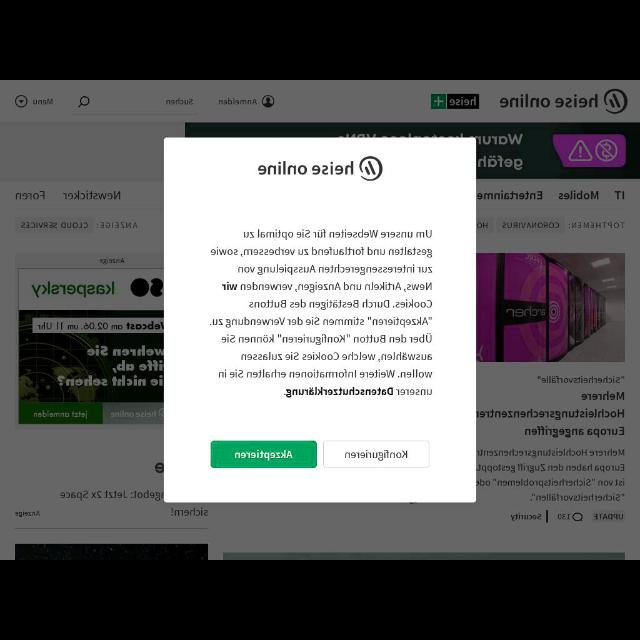button: (430, 95, 446, 108)
icon: (261, 95, 275, 109), (78, 94, 89, 110), (16, 95, 28, 107), (433, 95, 442, 107)
iframe: (186, 124, 638, 178), (19, 269, 162, 425)
image: (476, 253, 624, 361), (358, 155, 384, 181), (603, 89, 629, 115)
spinner: (74, 96, 198, 114), (13, 94, 53, 108)
text: (207, 228, 433, 398), (475, 450, 625, 502), (477, 391, 625, 441), (260, 160, 354, 180), (501, 94, 599, 112), (58, 491, 162, 502), (535, 376, 625, 386), (477, 190, 543, 202), (234, 450, 294, 462), (63, 190, 123, 202), (502, 220, 560, 232), (344, 450, 410, 460), (20, 222, 90, 230), (570, 221, 626, 231), (96, 219, 138, 231), (558, 190, 600, 200), (168, 507, 208, 517), (509, 512, 543, 522), (448, 96, 476, 106), (596, 511, 624, 521), (33, 96, 53, 108), (166, 98, 194, 106), (220, 98, 256, 104), (13, 192, 49, 198), (16, 510, 40, 516), (616, 190, 626, 200), (477, 222, 488, 230), (558, 514, 572, 520)
textbutton: (210, 440, 316, 468), (324, 442, 428, 466)
